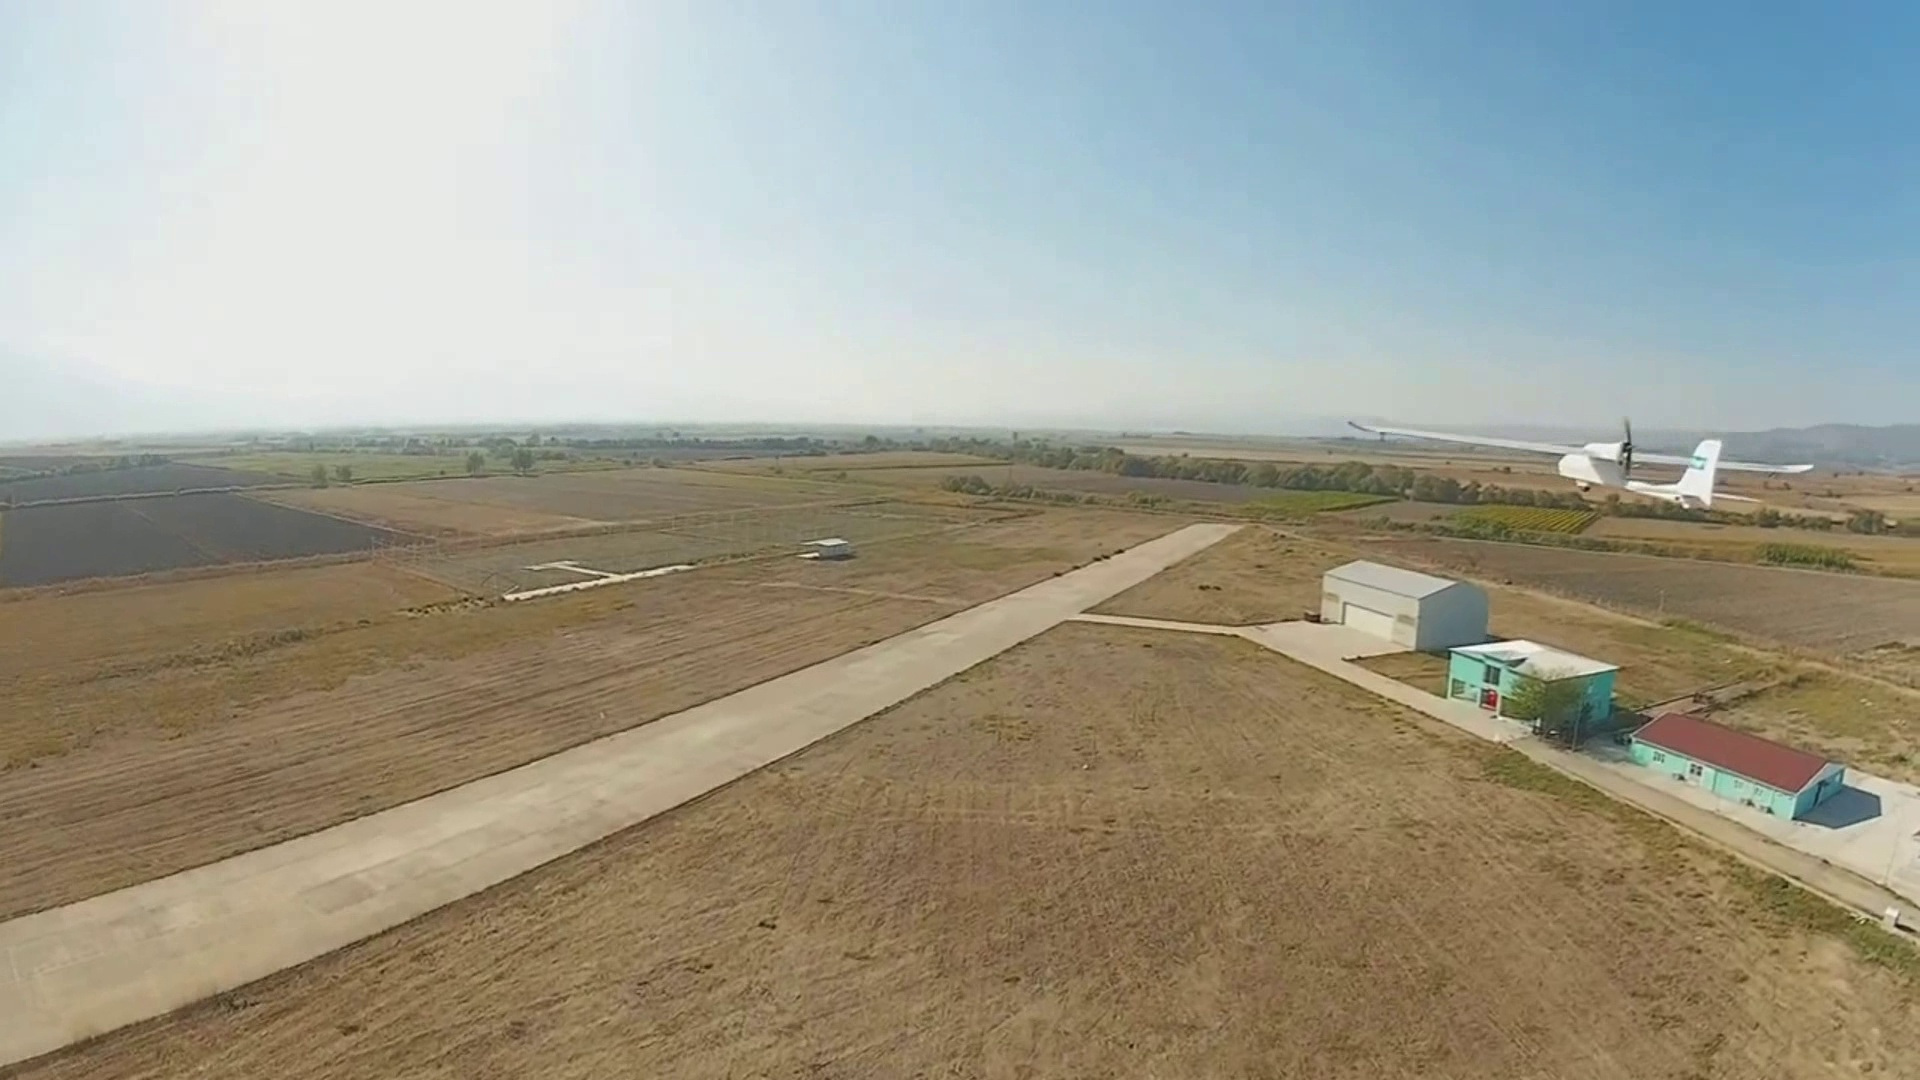airplane: (1556, 419, 1817, 520)
